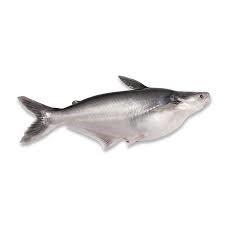Pangasius: (17, 75, 212, 156)
